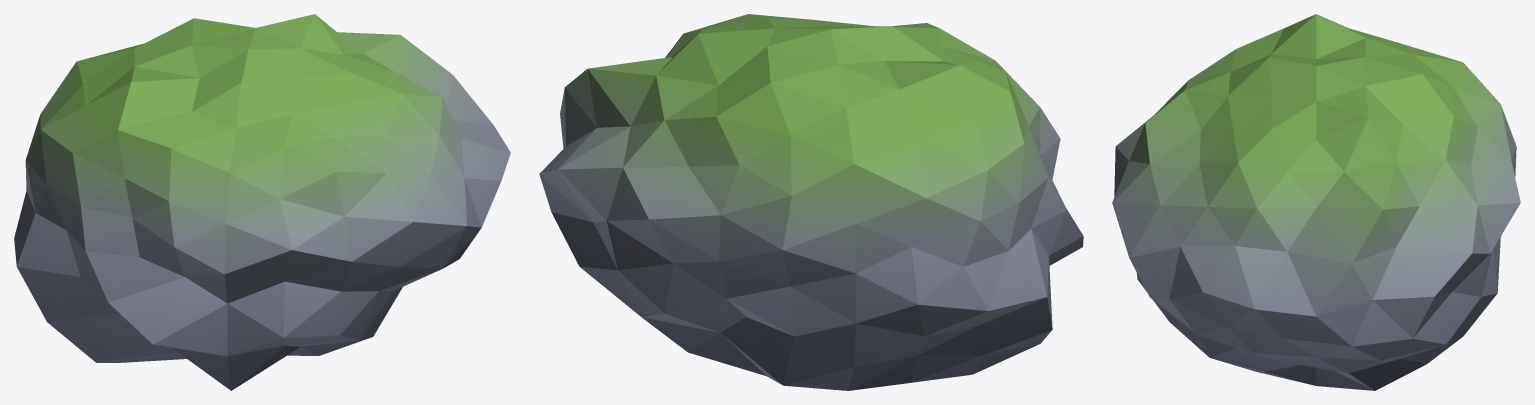
File: boulder.glb
3 renders of one model, left to right at view 1: azimuth 30°, elevation 25°; view 2: azimuth 150°, elevation 25°; view 3: azimuth 270°, elevation 25°, orthographic. The views are drawn at different scales.
Parts seen in each view (by area): view 1: boulder; view 2: boulder; view 3: boulder.
Part boxes in pixels (x1,y1,x2,y2): boulder: (14, 14, 510, 390); boulder: (539, 14, 1083, 390); boulder: (1112, 14, 1520, 390).
Bounding box in the file's own units: 3.2 × 1.95 × 2.52.
